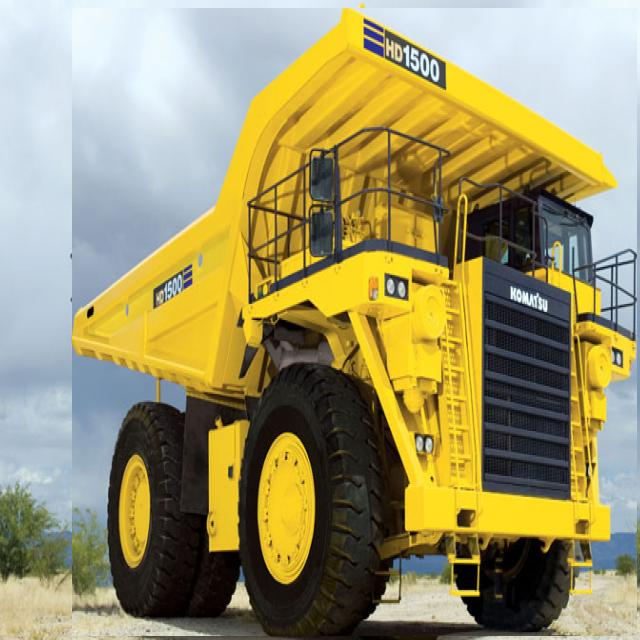truck: (72, 9, 636, 636)
